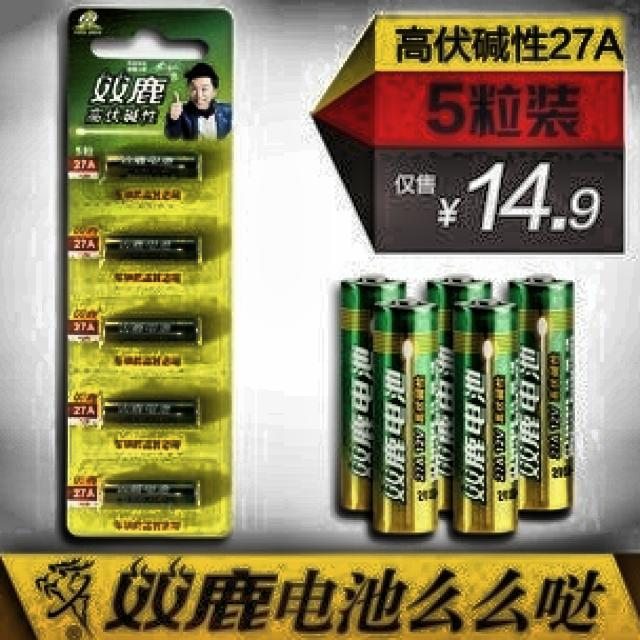Non-Valuable Waste - Batteries: (338, 277, 406, 511), (373, 300, 438, 535), (426, 276, 491, 511), (453, 300, 518, 535), (509, 277, 573, 511)
